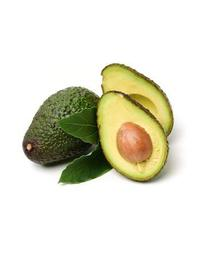avocado: (97, 90, 169, 184), (23, 86, 106, 167), (101, 64, 174, 140)
